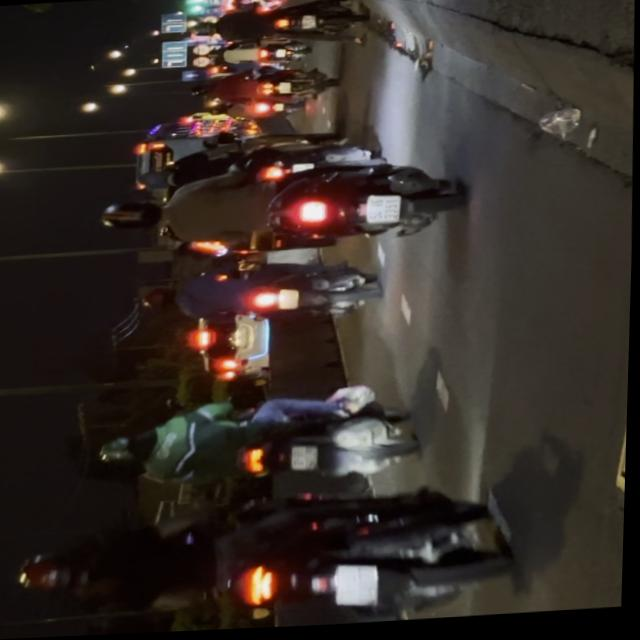helmet: (15, 548, 103, 600), (99, 201, 163, 236), (99, 434, 151, 467)
licenseplate: (0, 482, 513, 640), (97, 157, 464, 264), (94, 387, 429, 497)
nohelmet: (335, 568, 380, 611), (365, 198, 400, 228), (291, 448, 318, 474)
